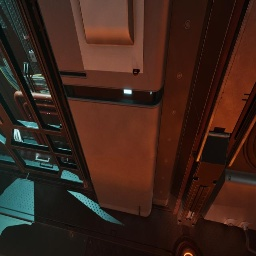SafetySwitchPanel ,: (70, 0, 145, 76)
